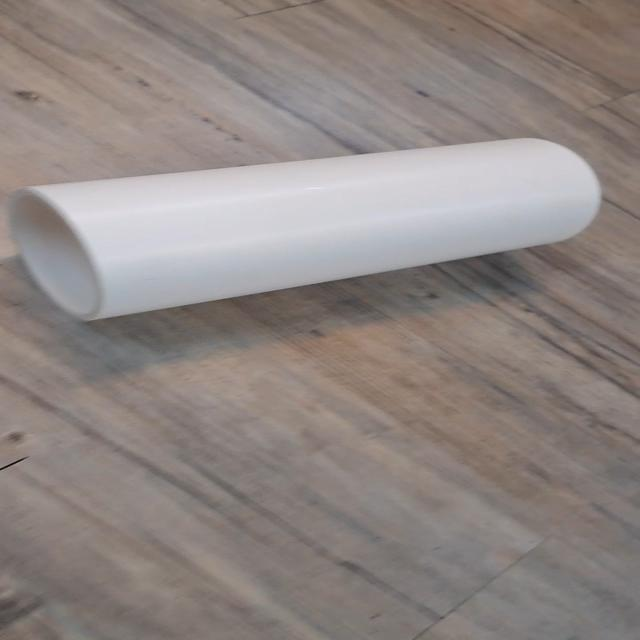CORAL: (6, 130, 618, 332)
